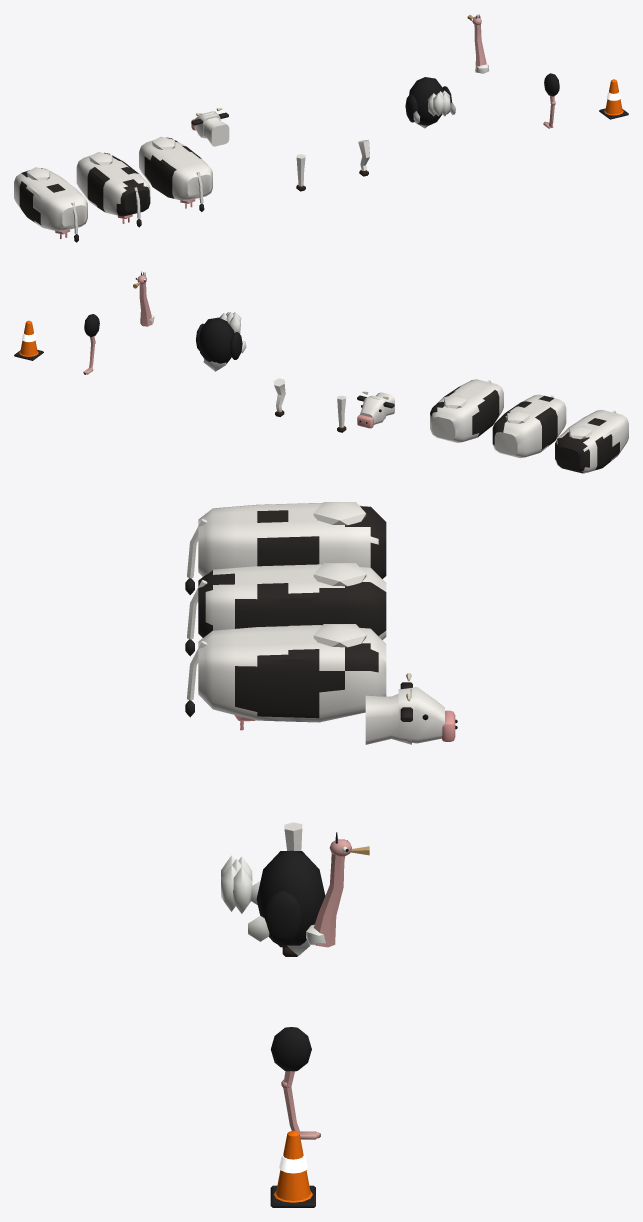
Rendered from animals.glb.
3 views of the same model, one above another, from view 1: azimuth 30°, elevation 25°; view 2: azimuth 150°, elevation 25°; view 3: azimuth 270°, elevation 25° (orthographic). The views are drawn at different scales.
Visible parts, largest first — view 1: cow_body_1, cow_body_2, cow_body_0, ostrich_body, cow_head, prop_cone, ostrich_neck, ostrich_leg; view 2: cow_body_1, cow_body_0, cow_body_2, ostrich_body, cow_head, prop_cone, ostrich_neck, ostrich_leg, cow_legB; view 3: cow_body_2, cow_body_1, cow_body_0, ostrich_body, cow_head, prop_cone, ostrich_neck, ostrich_leg.
Part boxes in pixels (x1,y1,x2,y2): cow_body_1: (76, 152, 150, 227); cow_body_2: (139, 136, 212, 211); cow_body_0: (14, 167, 87, 242); ostrich_body: (405, 77, 455, 128); cow_head: (191, 108, 229, 146); prop_cone: (599, 79, 628, 119); ostrich_neck: (467, 14, 489, 73); ostrich_leg: (543, 73, 559, 128); cow_body_1: (492, 394, 566, 458); cow_body_0: (555, 409, 628, 473); cow_body_2: (430, 379, 503, 442); ostrich_body: (196, 311, 246, 371); cow_head: (357, 391, 394, 428); prop_cone: (14, 320, 43, 360); ostrich_neck: (133, 271, 154, 326); ostrich_leg: (83, 314, 99, 374); cow_legB: (273, 378, 285, 416); cow_body_2: (185, 624, 386, 730); cow_body_1: (185, 563, 386, 656); cow_body_0: (185, 502, 386, 594); ostrich_body: (221, 850, 325, 955); cow_head: (365, 673, 457, 744); prop_cone: (270, 1130, 315, 1207); ostrich_neck: (306, 832, 369, 947); ostrich_leg: (270, 1027, 320, 1139).
Size of the model in its own units: 13.25 by 2.6 by 2.64.
